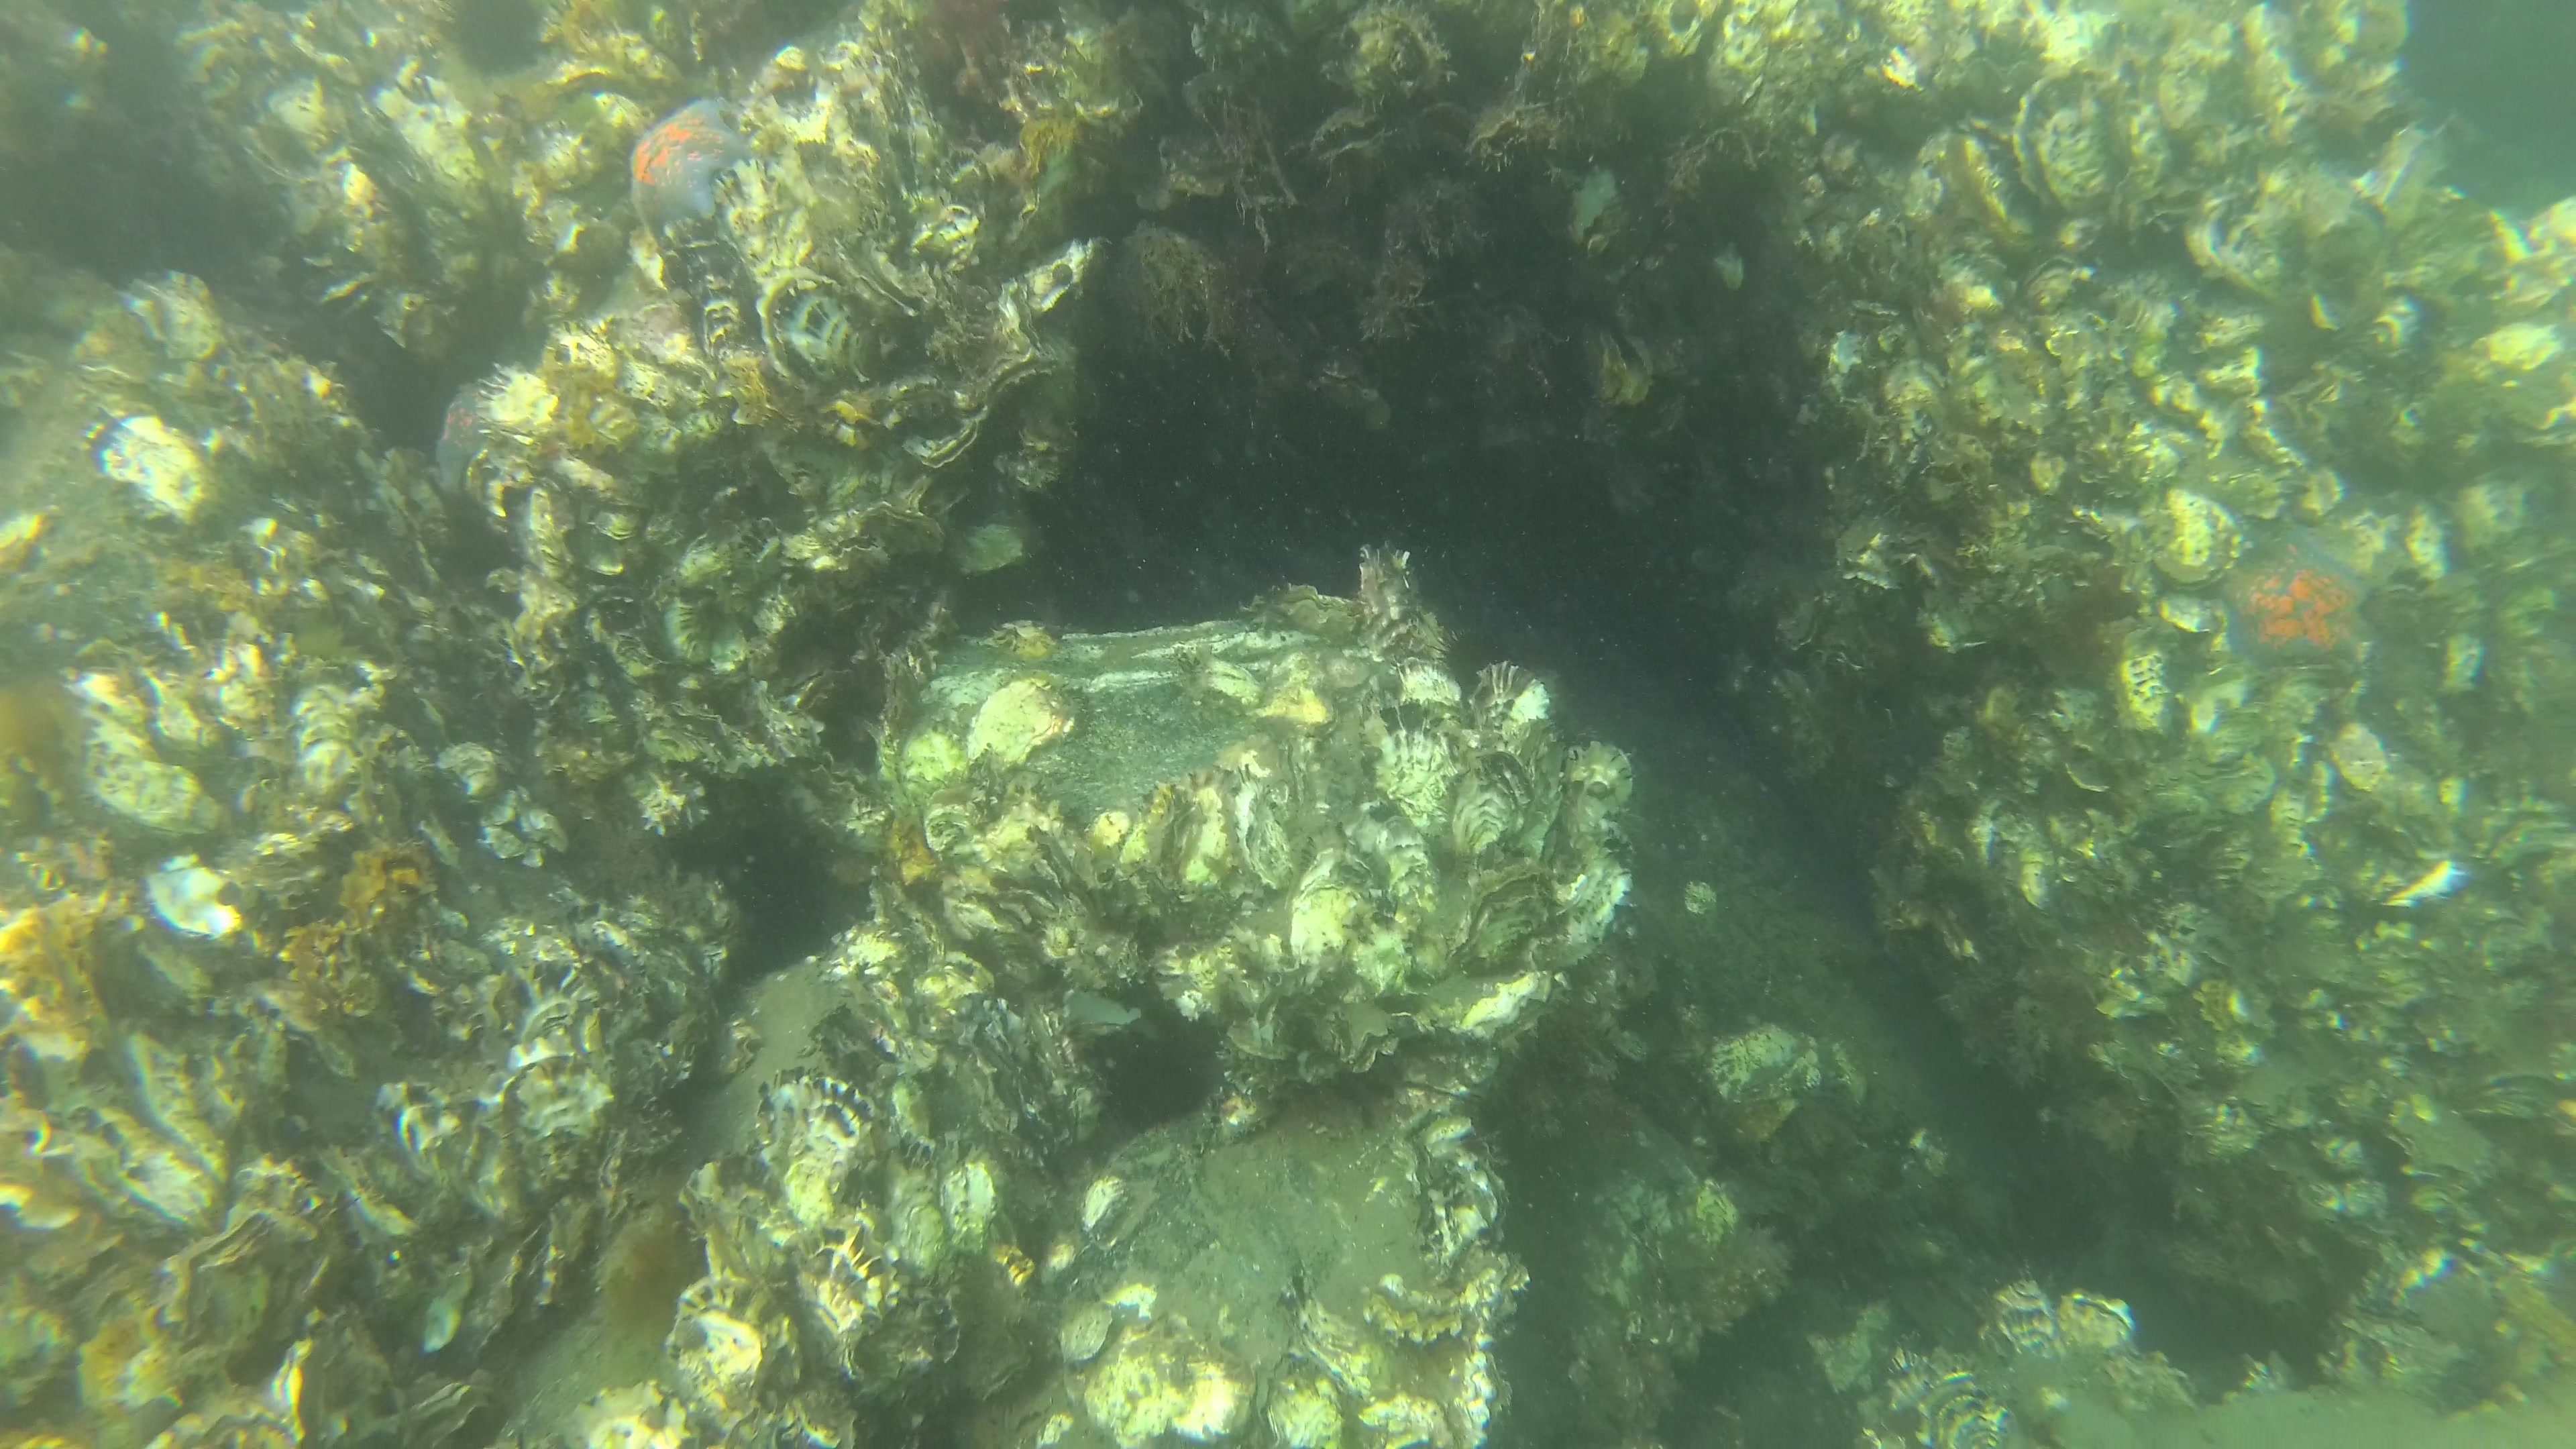echinus: (2238, 527, 2373, 669), (626, 97, 752, 225), (430, 384, 494, 497)
